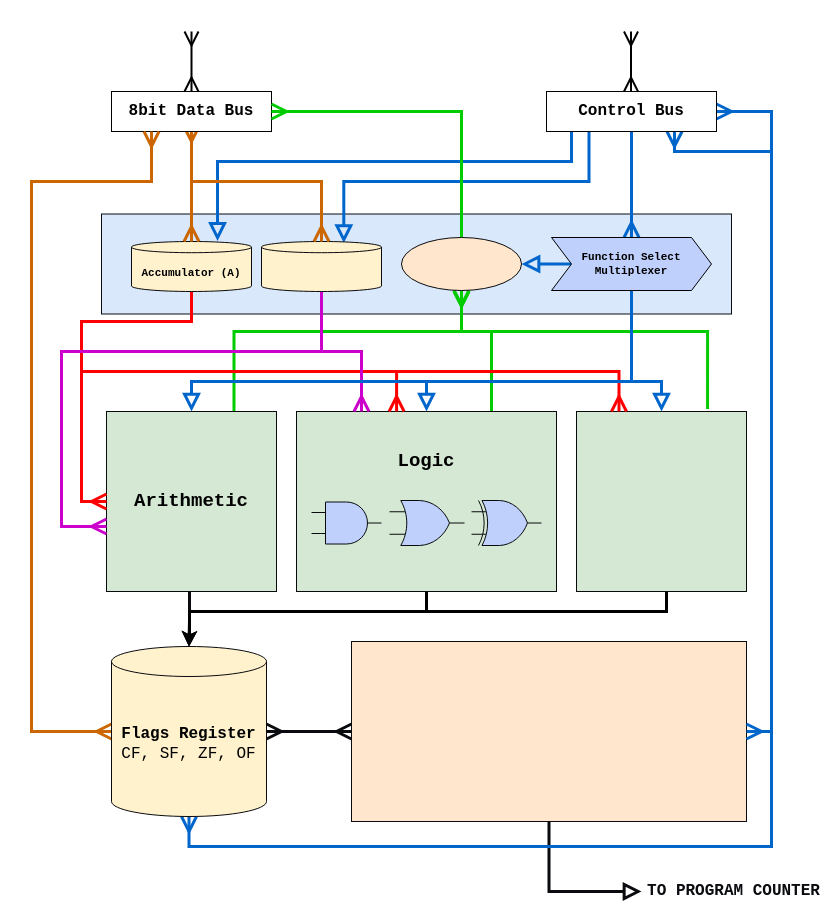
Some shapes in this 837 by 923 pixel diagram are drawn without their labels. Each missing label, with the centre of its shape:
"Conditional Jump Logic" goes at point (548, 731).
"Operand (B)" goes at point (321, 266).
"Output Buffer" goes at point (461, 263).
"Shifter" goes at point (661, 501).
